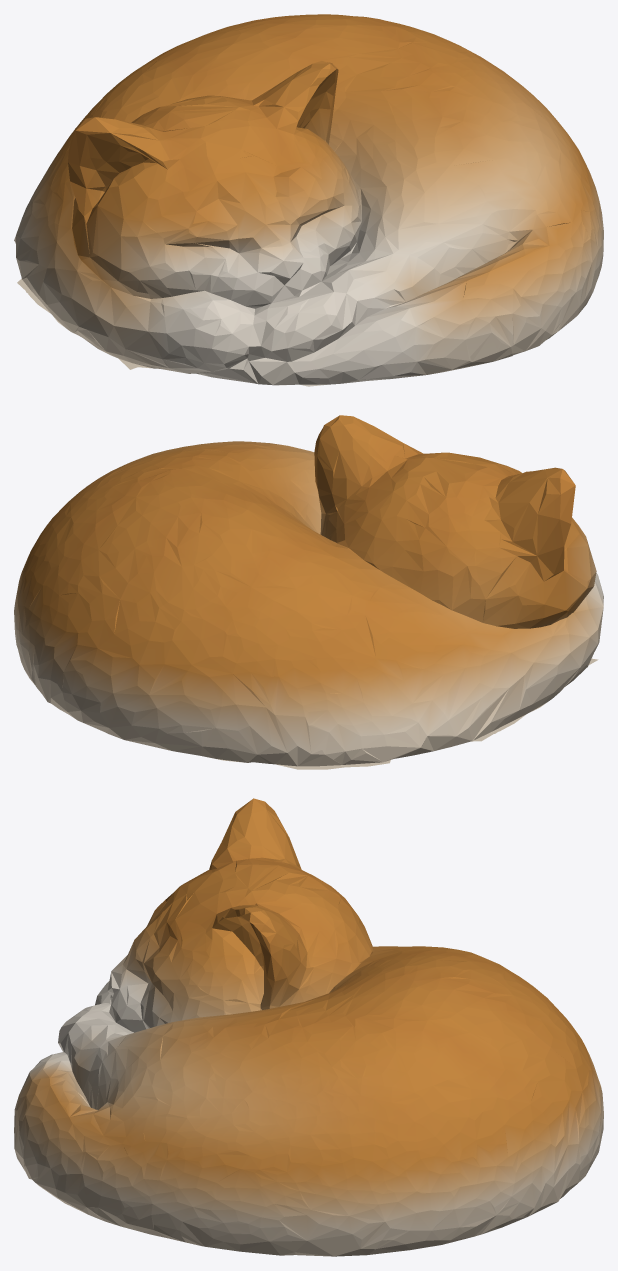
File: room04-cat-v1.glb
The picture shows the model from 3 angles, top to bottom: view 1: azimuth 30°, elevation 25°; view 2: azimuth 150°, elevation 25°; view 3: azimuth 270°, elevation 25°; orthographic projection. The views are drawn at different scales.
Visible parts, largest first — view 1: world; view 2: world; view 3: world.
Boxes of the visible parts, box(x1,y1,x2,y2) form: world: box(14, 14, 603, 386); world: box(14, 415, 603, 769); world: box(14, 798, 603, 1256).
Bounding box in the file's own units: 0.3986 × 0.166 × 0.4.
